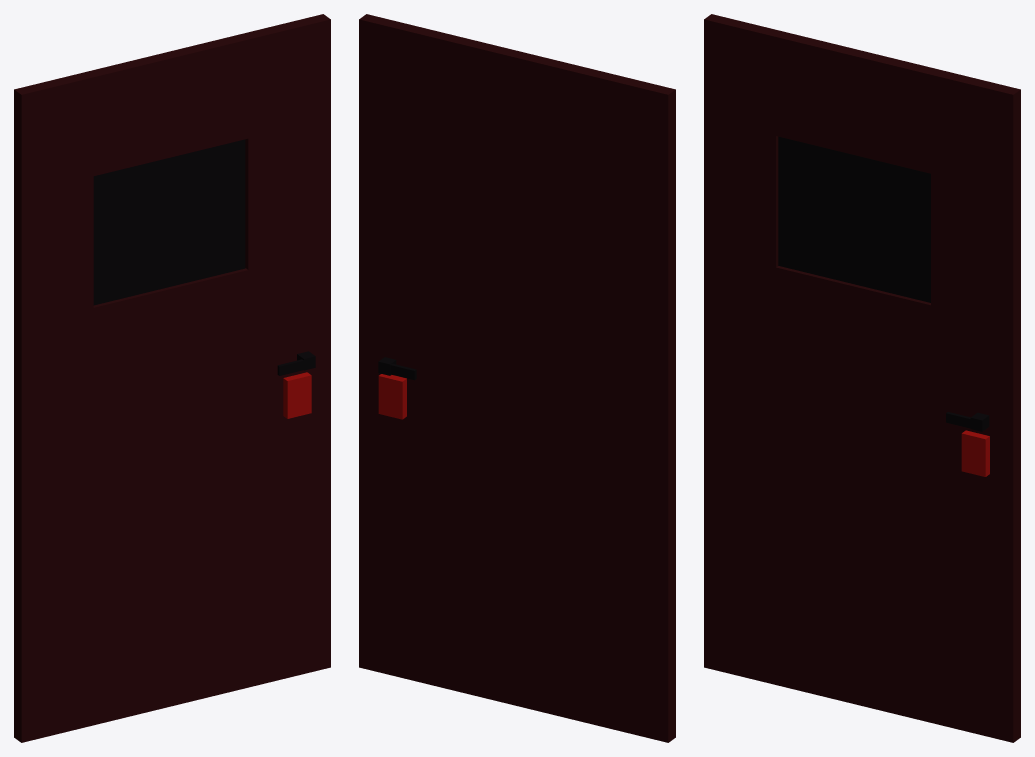
Rendered from Door.FBX.
3 renders of one model, left to right at view 1: azimuth 30°, elevation 25°; view 2: azimuth 150°, elevation 25°; view 3: azimuth 330°, elevation 25°, orthographic.
Visible parts, largest first — view 1: Box002, Plane002, Box005, Box004; view 2: Box002, Box007, Box006; view 3: Box002, Plane002, Box005, Box004.
Boxes of the visible parts, <box> form: Box002: <box>14,14,330,742</box>; Plane002: <box>93,139,245,305</box>; Box005: <box>283,372,311,418</box>; Box004: <box>277,351,315,375</box>; Box002: <box>359,14,675,742</box>; Box007: <box>378,374,406,419</box>; Box006: <box>378,357,416,380</box>; Box002: <box>704,14,1020,742</box>; Plane002: <box>778,136,930,302</box>; Box005: <box>961,430,989,476</box>; Box004: <box>946,412,989,431</box>.
Size of the model in its own units: 9.84 by 19.7 by 1.2.
